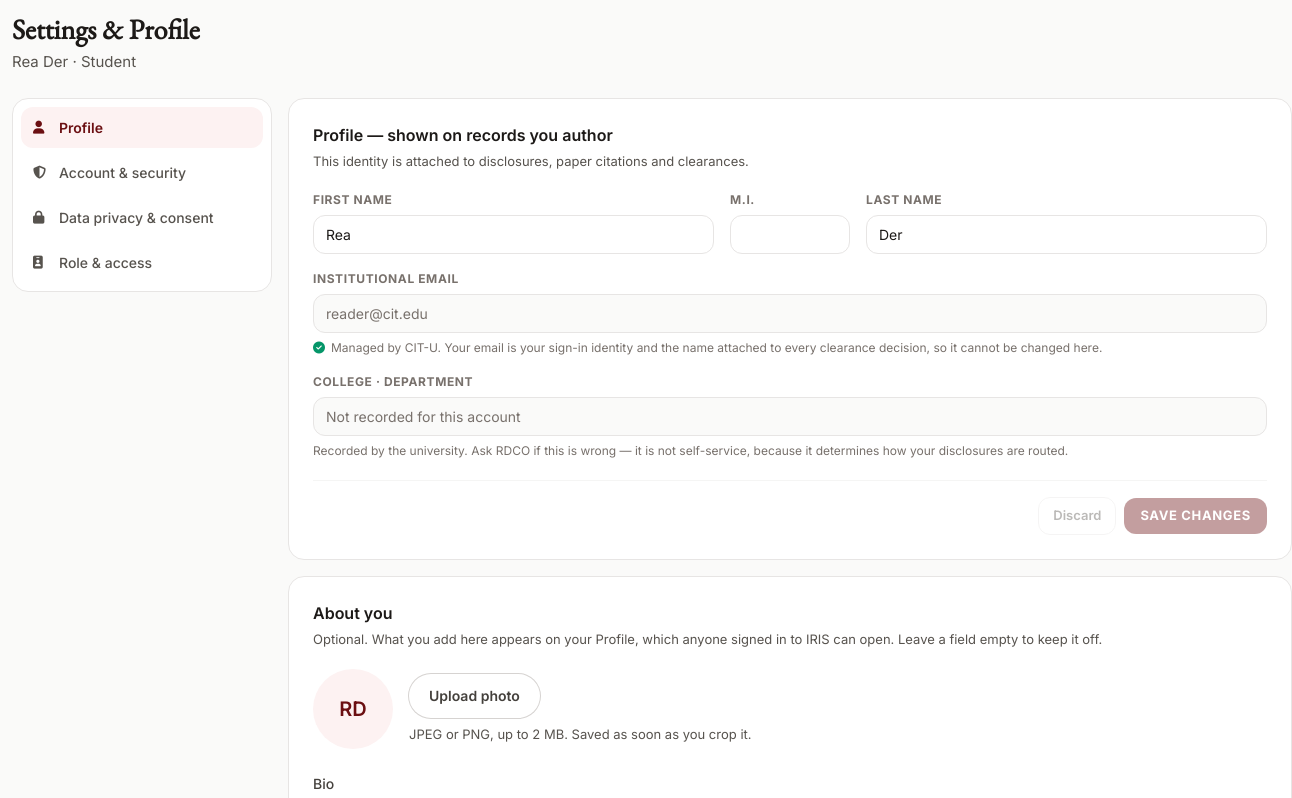
Scenario: changing your password › still names a wrong current password
Click the button "Account & security": (142, 172) top-left (21, 152), bottom-right (263, 193)
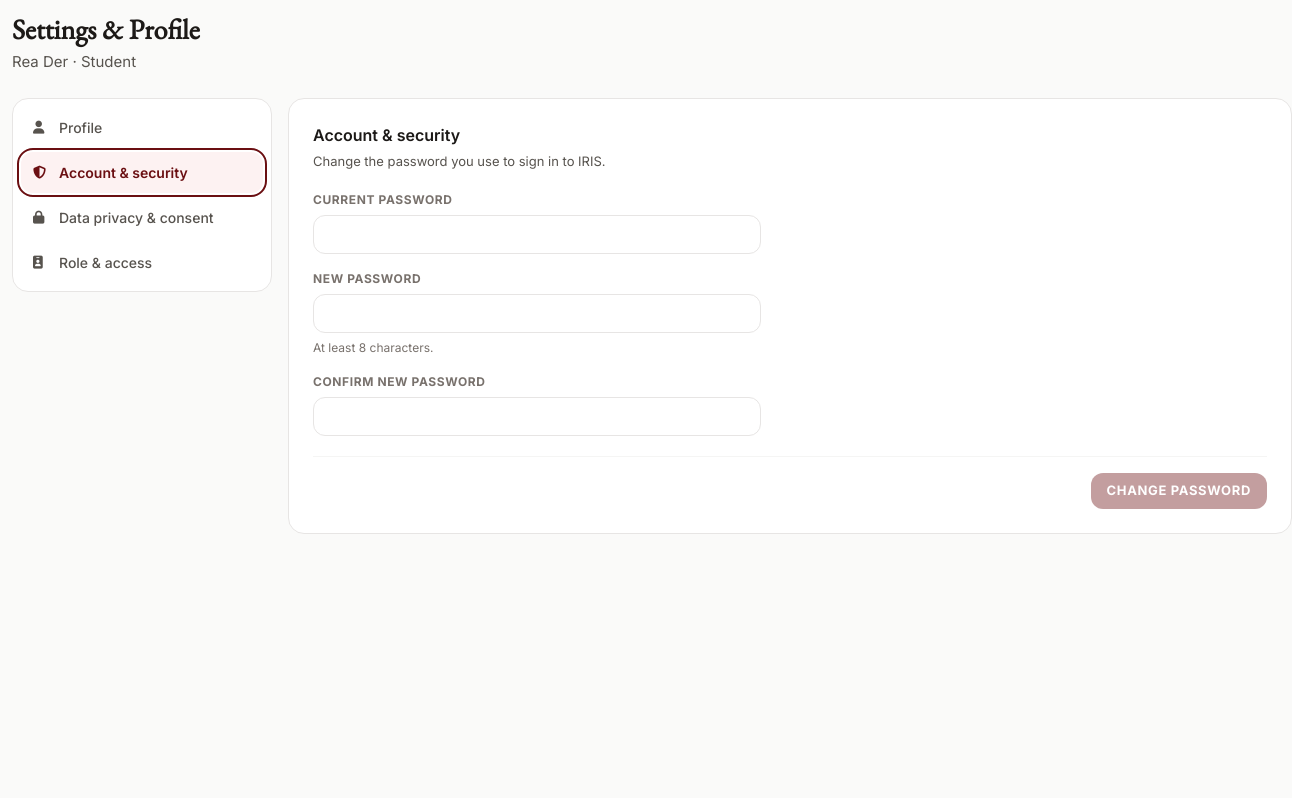
In the password field labelled "Current password": (537, 234) top-left (313, 215), bottom-right (761, 254), type "old-Passw0rd"
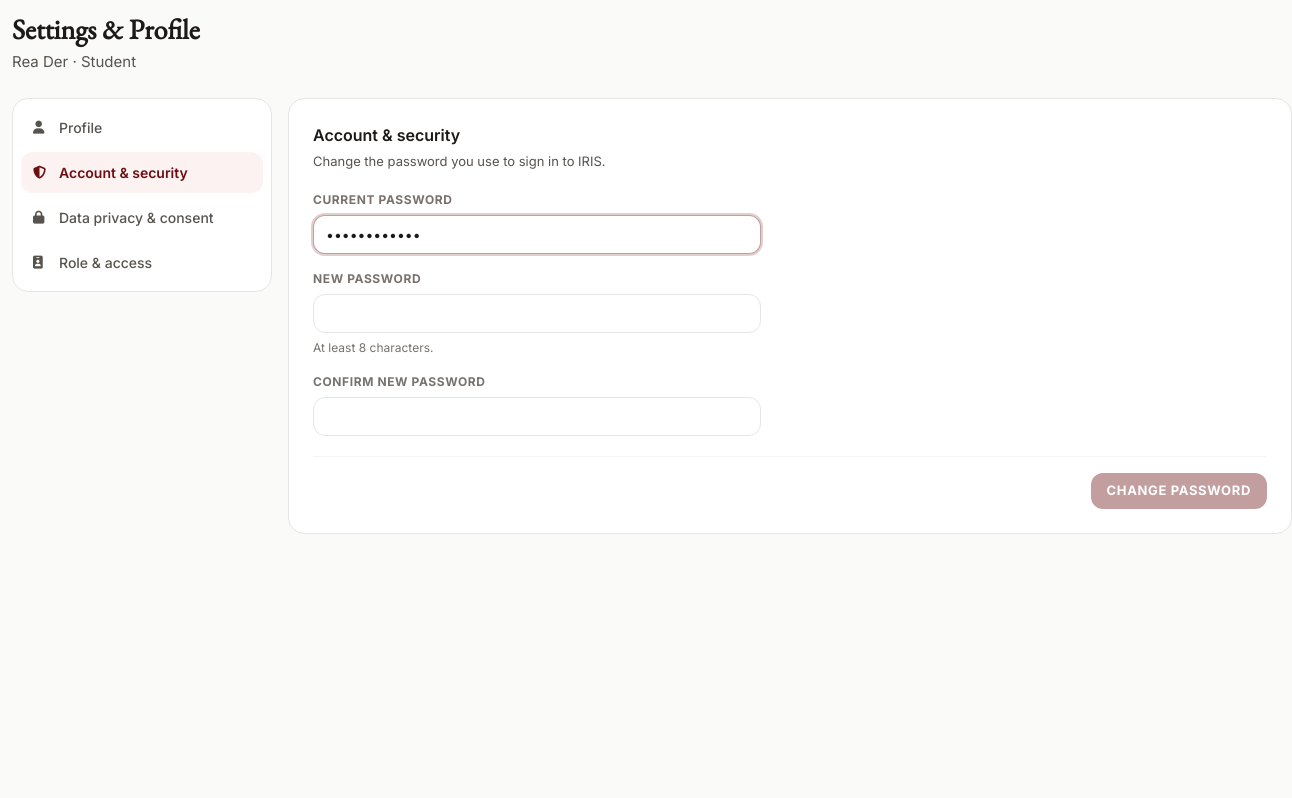
In the password field labelled "New password At least 8 characters.": (537, 314) top-left (313, 294), bottom-right (761, 333), type "Kalamansi-Tide-42"
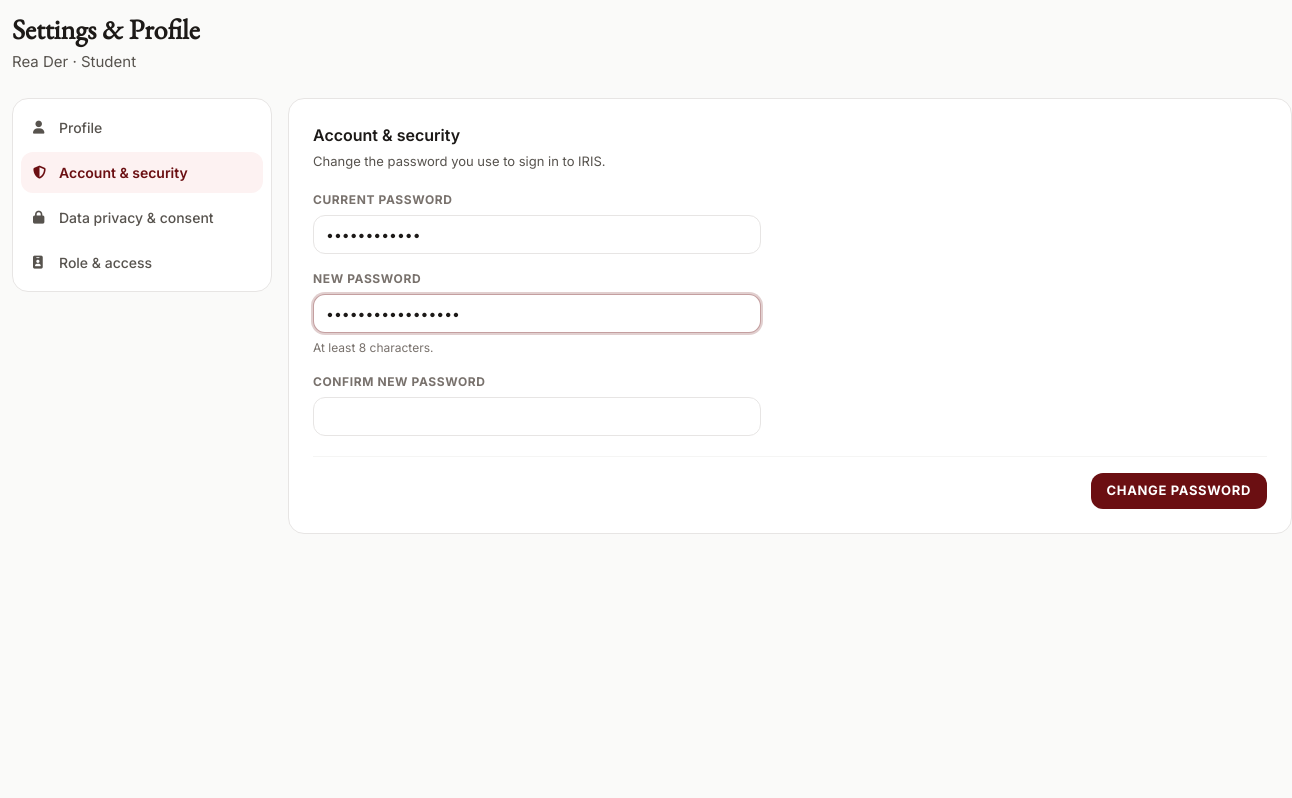
In the password field labelled "Confirm new password": (537, 416) top-left (313, 397), bottom-right (761, 436), type "Kalamansi-Tide-42"
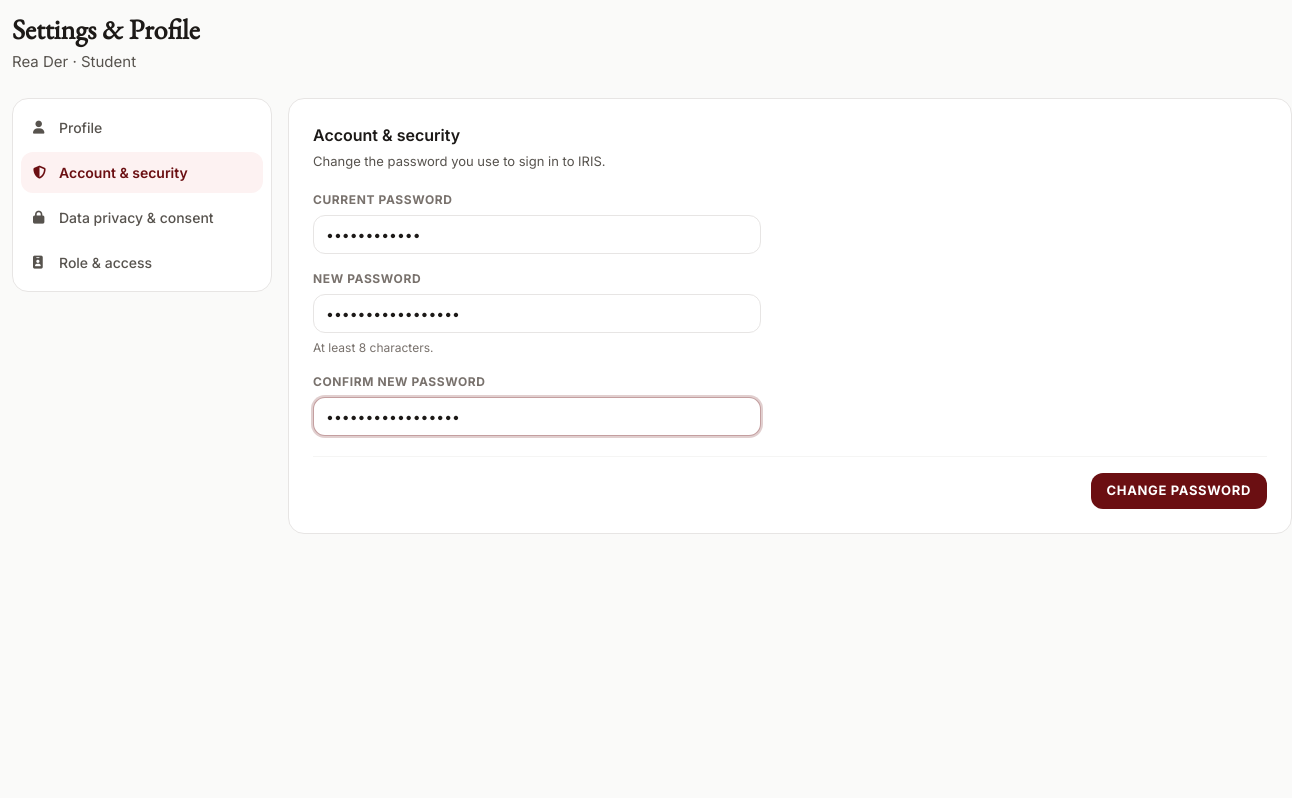
Click the button "Change password": (1179, 491) top-left (1091, 473), bottom-right (1267, 508)
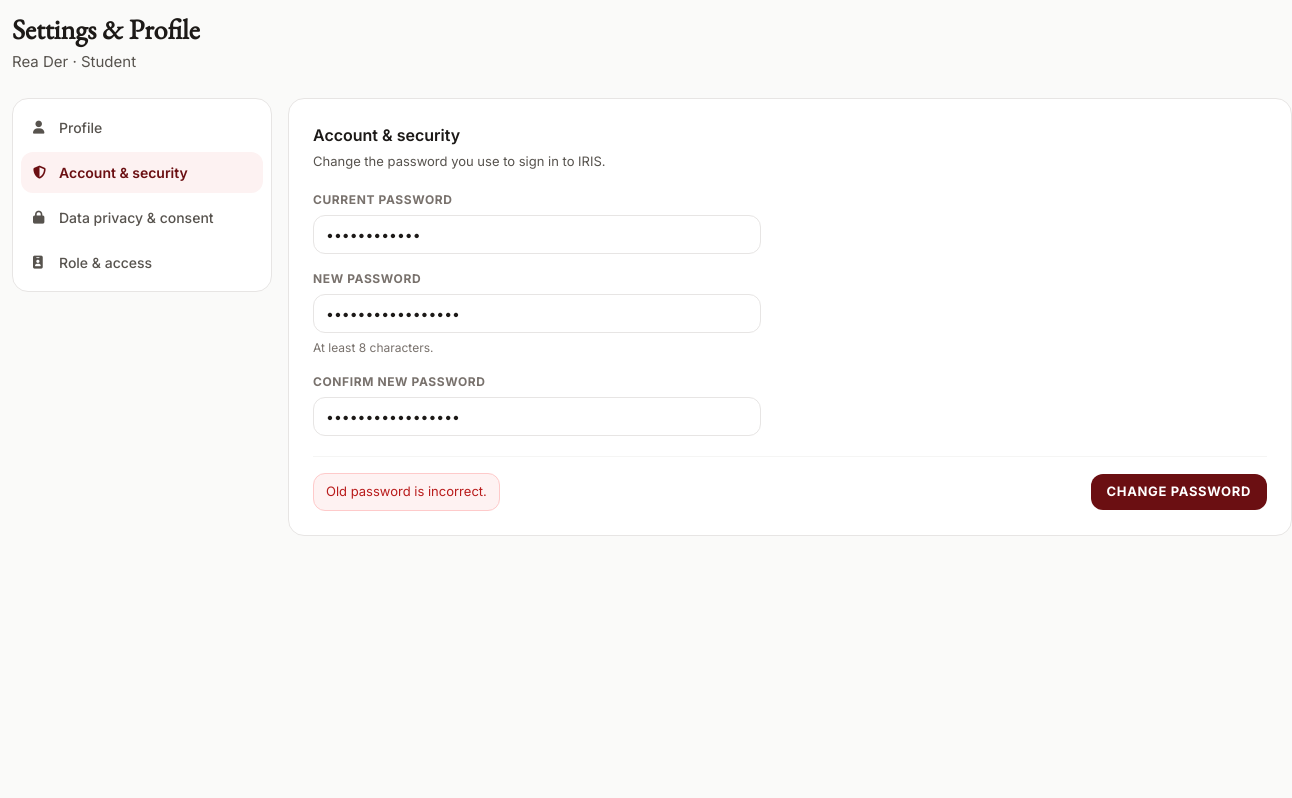
Expected: the message reads "Old password is incorrect.", top-left (326, 483), bottom-right (487, 499)
